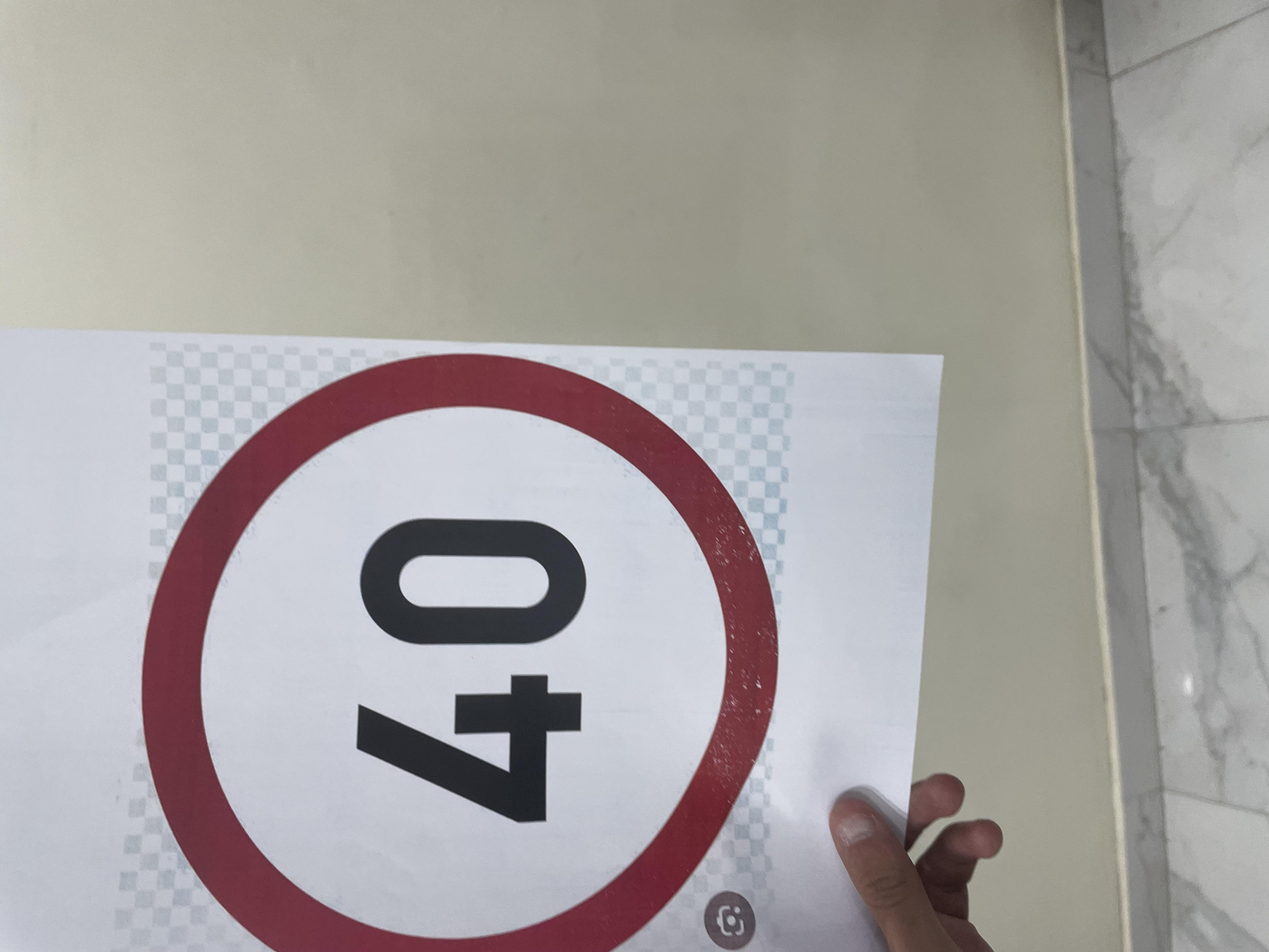40-Speed: (5, 88, 814, 587)
